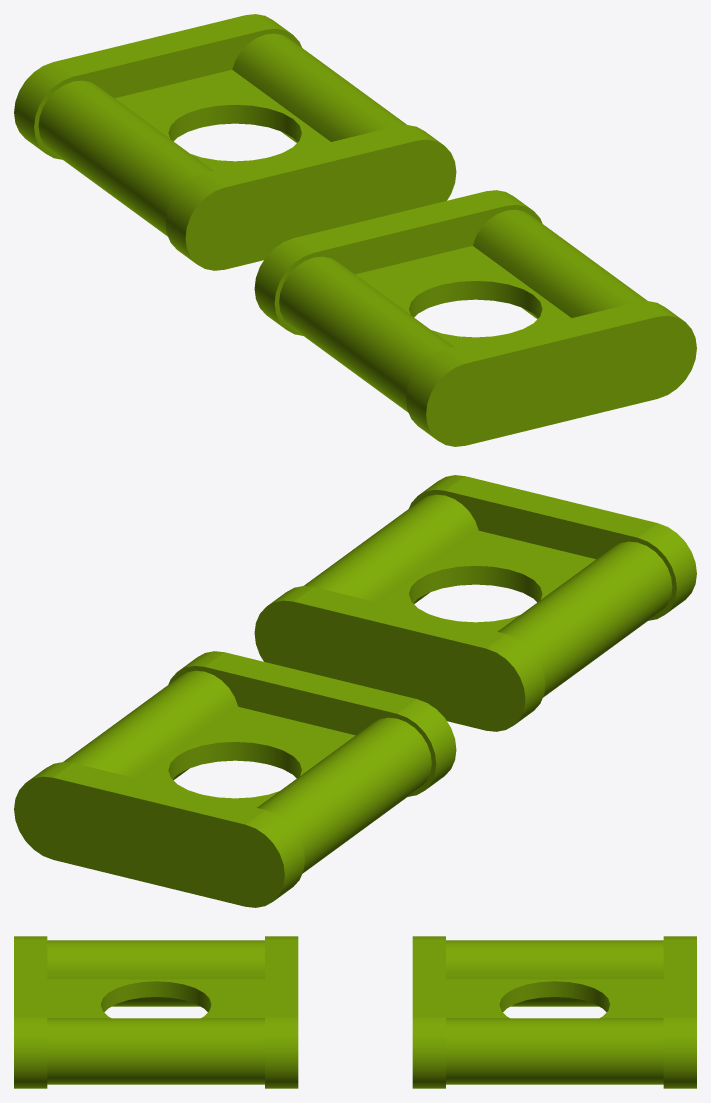
File: gus1.dae
3 renders of one model, top to bottom at view 1: azimuth 30°, elevation 25°; view 2: azimuth 150°, elevation 25°; view 3: azimuth 270°, elevation 25°, orthographic. The views are drawn at different scales.
Parts seen in each view (by area): view 1: SketchUp_007; view 2: SketchUp_007; view 3: SketchUp_007.
Part boxes in pixels (x1,y1,x2,y2): SketchUp_007: (14, 14, 696, 446); SketchUp_007: (14, 475, 696, 907); SketchUp_007: (14, 936, 696, 1088).
Size of the model in its own units: 0.1843 by 0.4855 by 0.0534.
